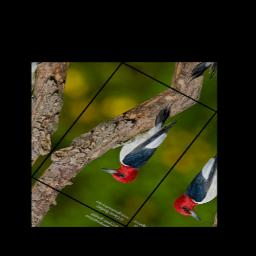Woodpecker: (93, 91, 192, 187)
